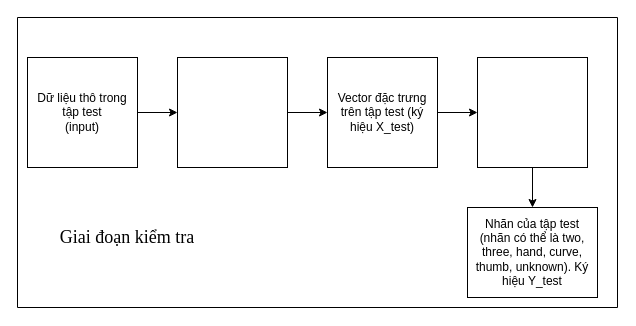
Image size: 636x326. Some labels were removed from this diagram. The centre of each missing label's shape, as x and y in pixels:
"Bộ trích chọn đặc trưng VGG16 đã được huấn luyện trước trên tập ImageNet" belongs at (232,112).
"Mô hình dự đoán được xuất ra trong quá trình huấn luyện trên tập train" belongs at (532,112).
